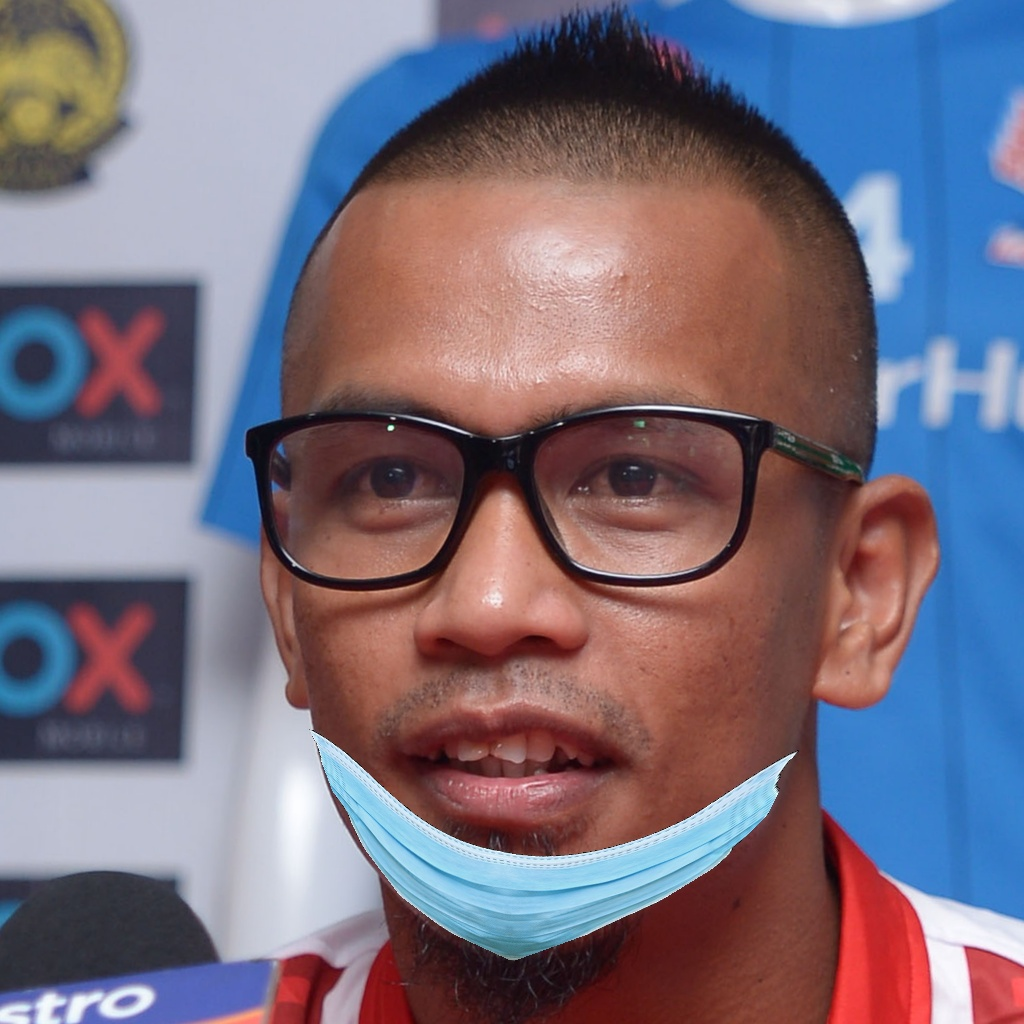Mask_Chin: (285, 376, 820, 983)
